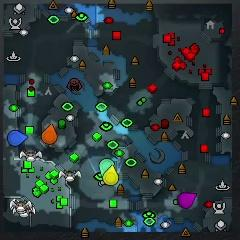p1: (7, 130, 28, 146)
p2: (99, 158, 114, 177)
p3: (177, 192, 197, 208)
p4: (103, 166, 119, 186)
p5: (41, 124, 57, 144)
